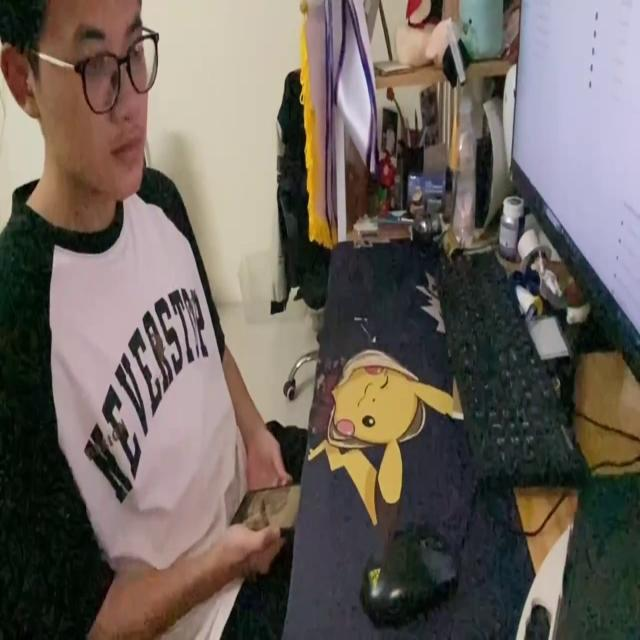laptop: (506, 0, 640, 388)
phone: (226, 480, 304, 535)
student: (0, 1, 300, 640)
